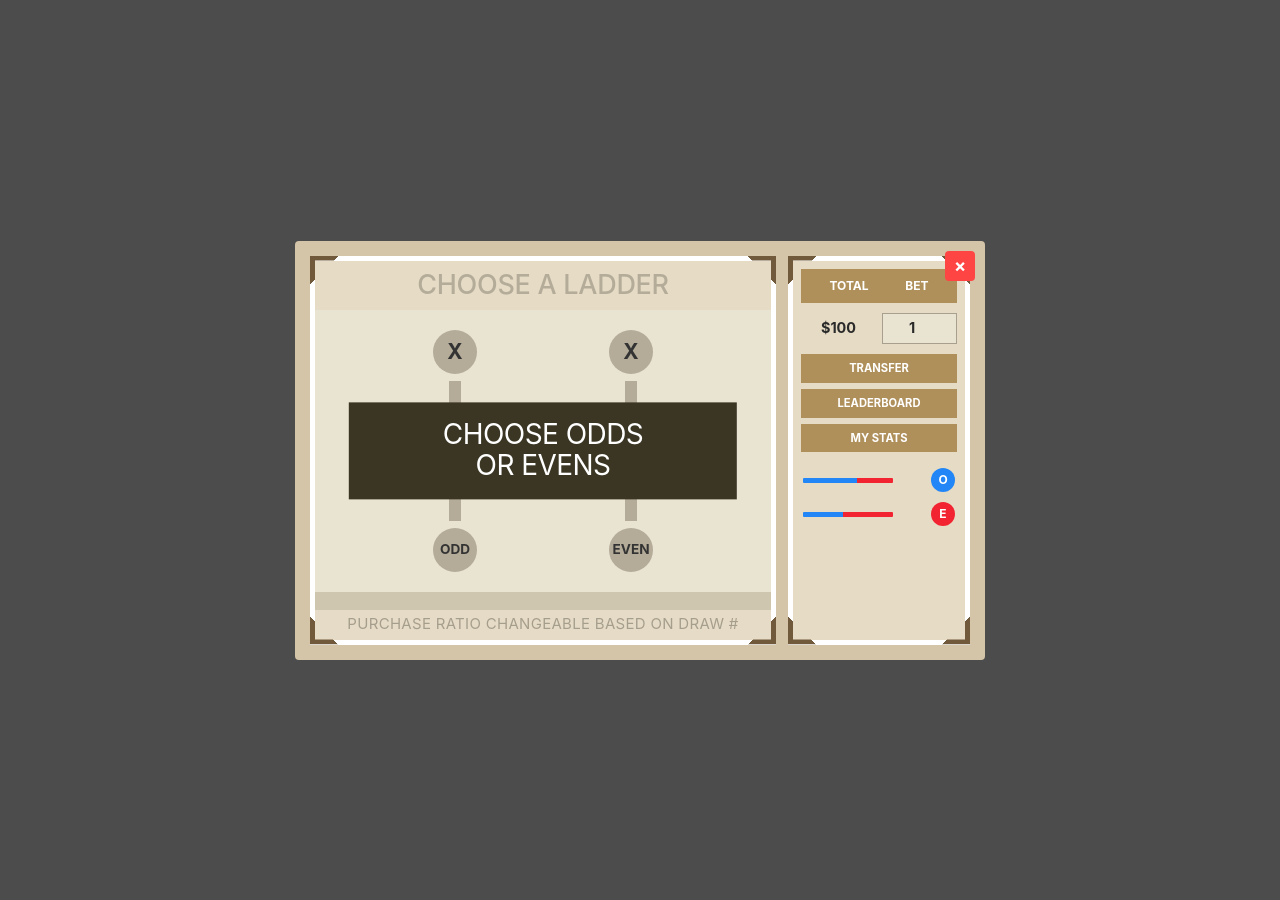
Scenario: LadderGame › leaderboard modal ranks by net winnings, then switches boards
Click the button "Leaderboard": (879, 403) [801,389,957,418]
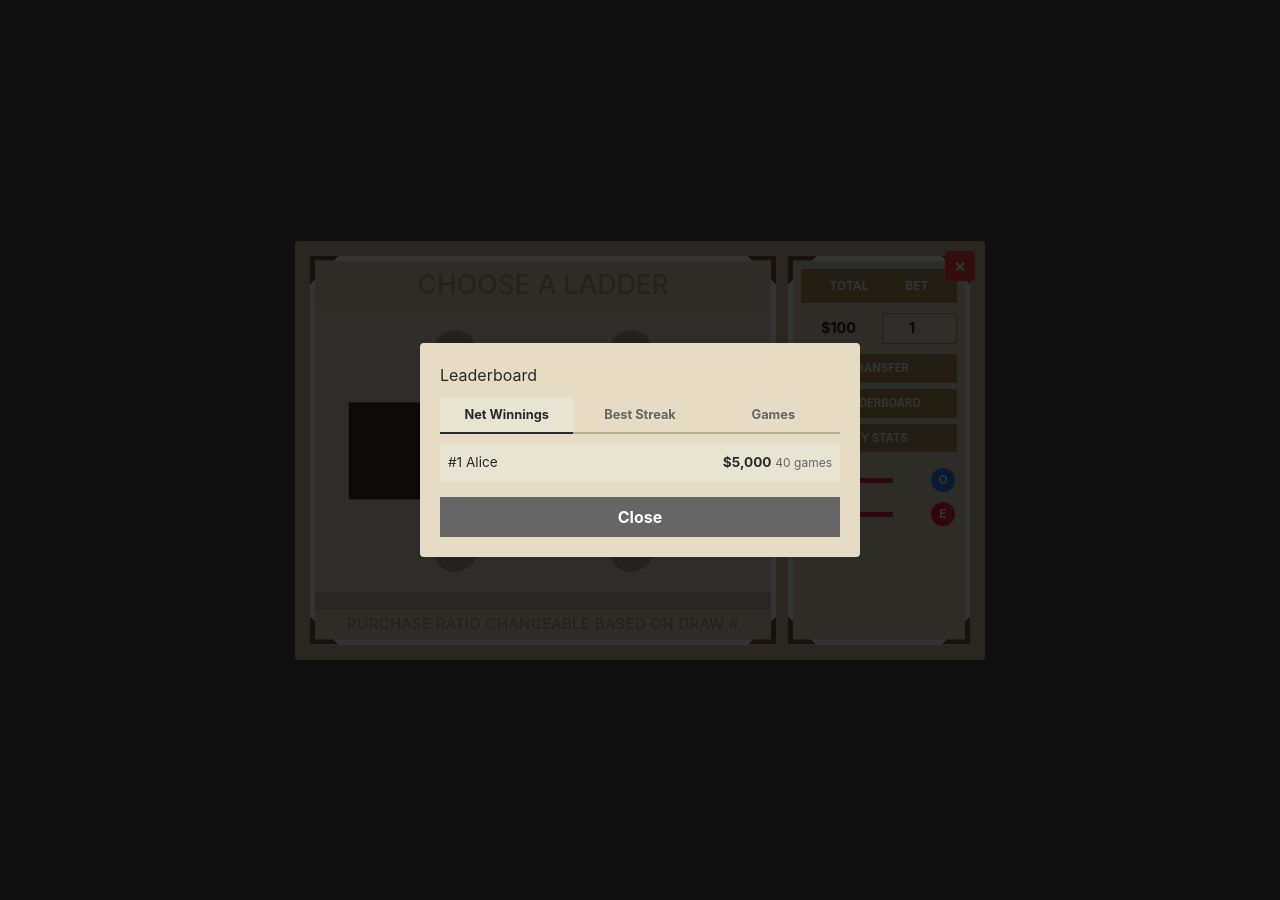
Result: the text "#1 Alice" is shown at [448,452,498,473]
Result: the text "$5,000" is shown at [723,454,772,470]
Click the tab "Best Streak": (640, 416) [573,397,707,434]
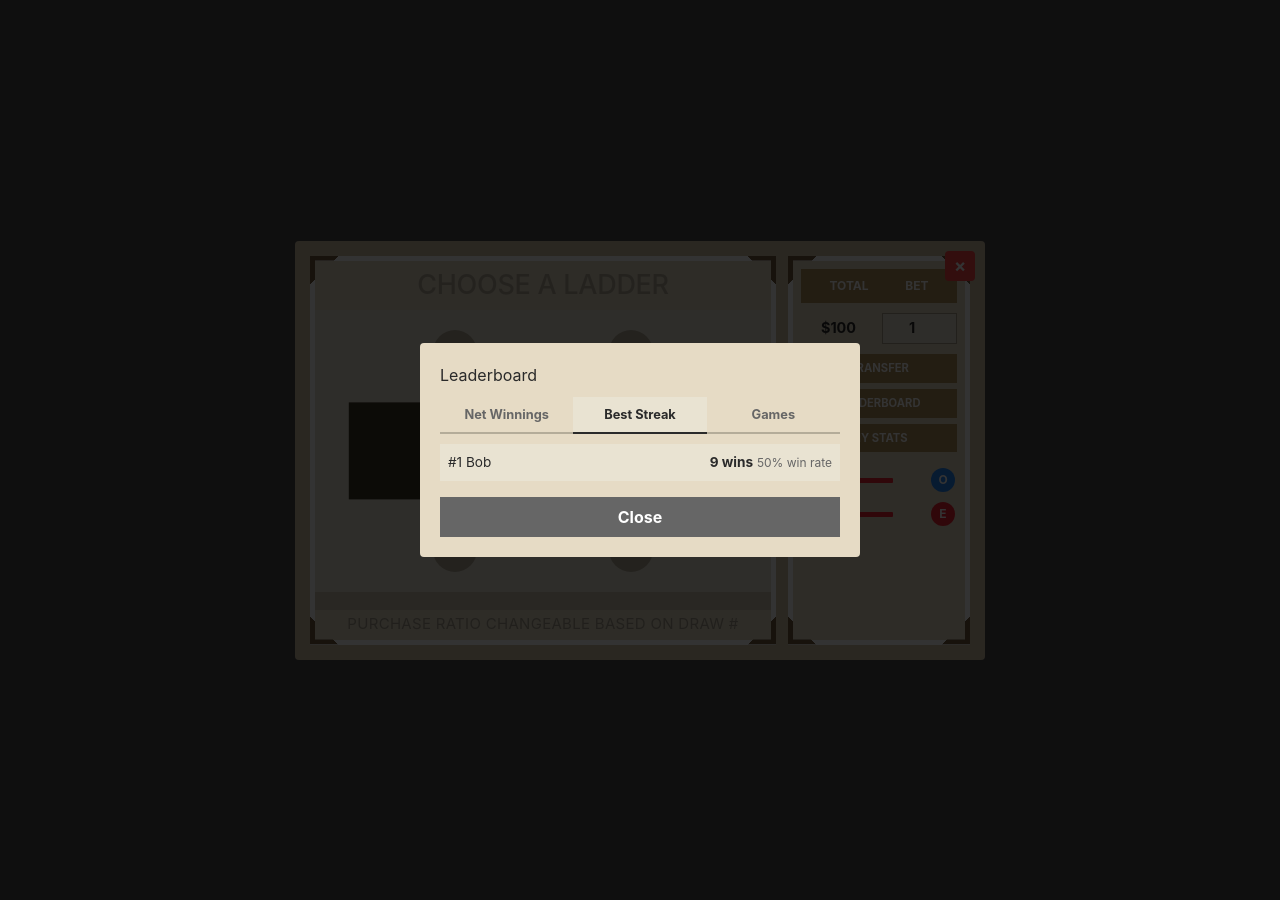
Result: the text "#1 Bob" is shown at [448,452,491,473]
Result: the text "9 wins" is shown at [710,454,753,470]
